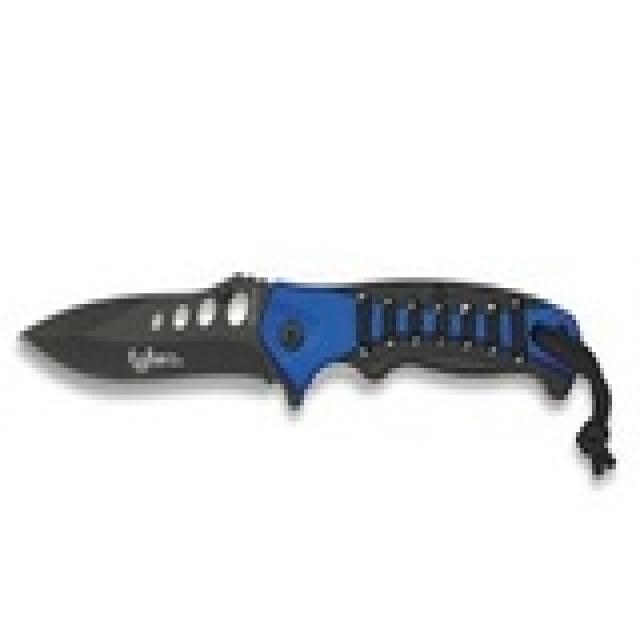Knife: (10, 261, 629, 489)
